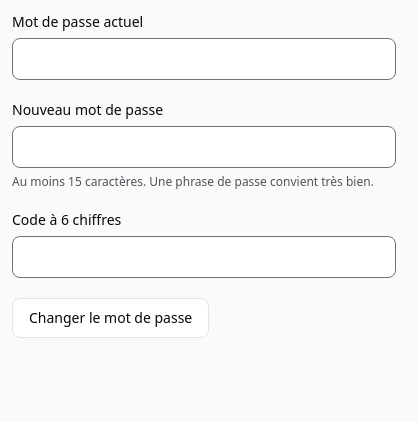
admin forms › PasswordForm › reports {"status":"invalid","problem":"breached"}
The width and height of the screenshot is (418, 422).
Type "current password" into the password field labelled "Mot de passe actuel" at (204, 59), box [12,38,396,80]
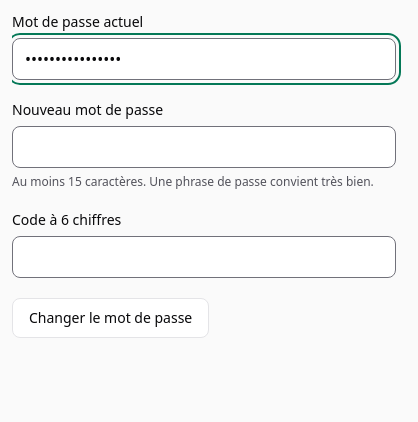
Type "a new long passphrase" into the password field labelled "Nouveau mot de passe" at (204, 147), box [12,126,396,168]
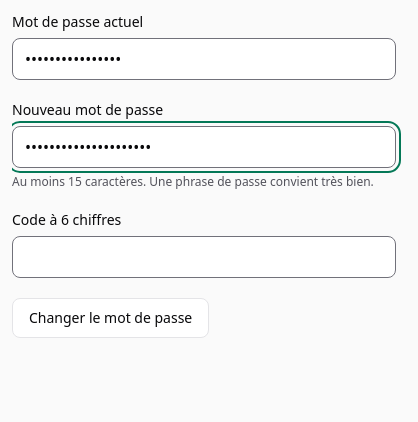
Type "123456" into the field labelled "Code à 6 chiffres" at (204, 257), box [12,236,396,278]
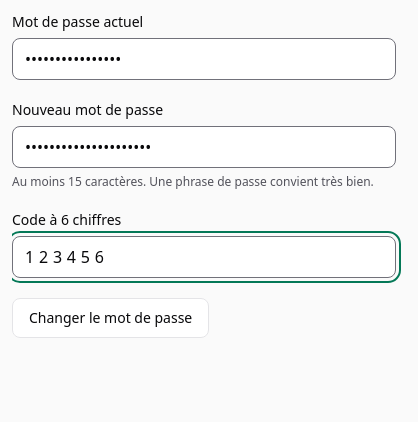
Click the button "Changer le mot de passe" at (111, 318), box [12,298,209,338]
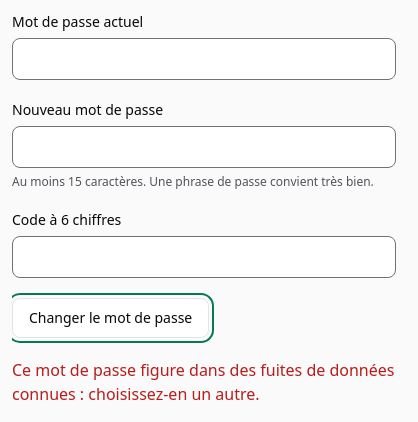
Check: the message shows "fuites de données", box [12,359,394,405]
